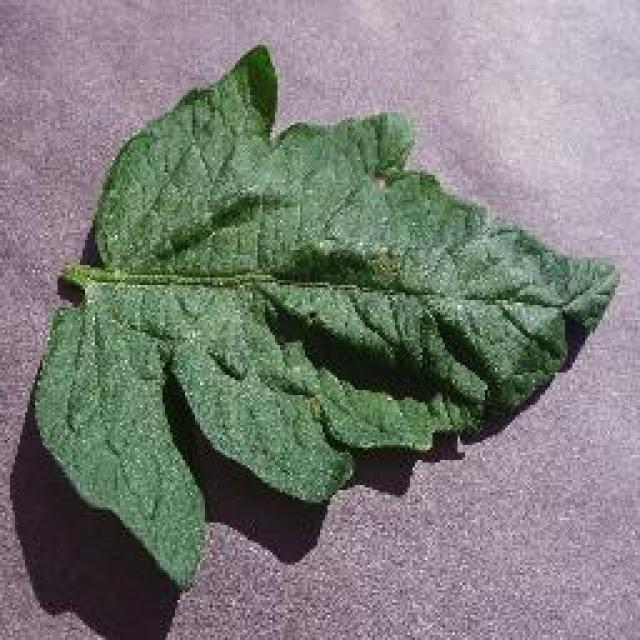Tomato___Target_Spot: (35, 48, 615, 582)
